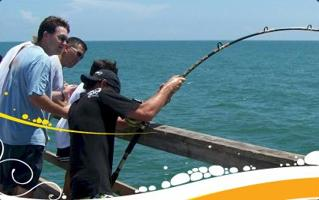person: (67, 69, 186, 200)
